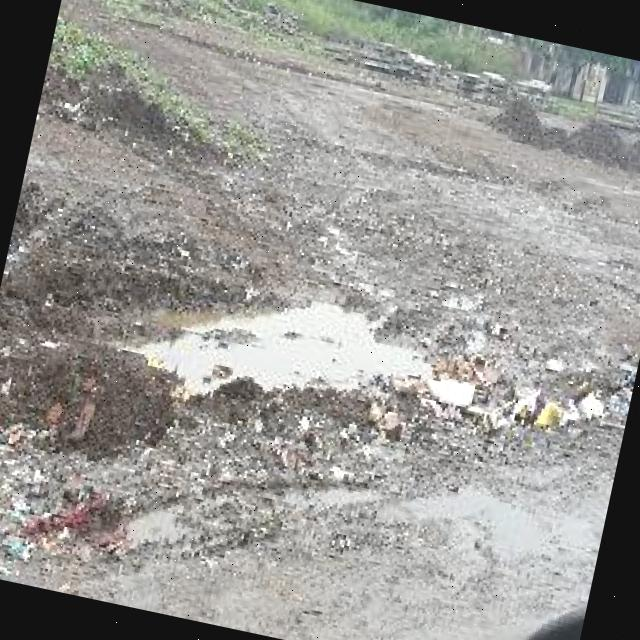stagnation: (74, 226, 466, 503)
